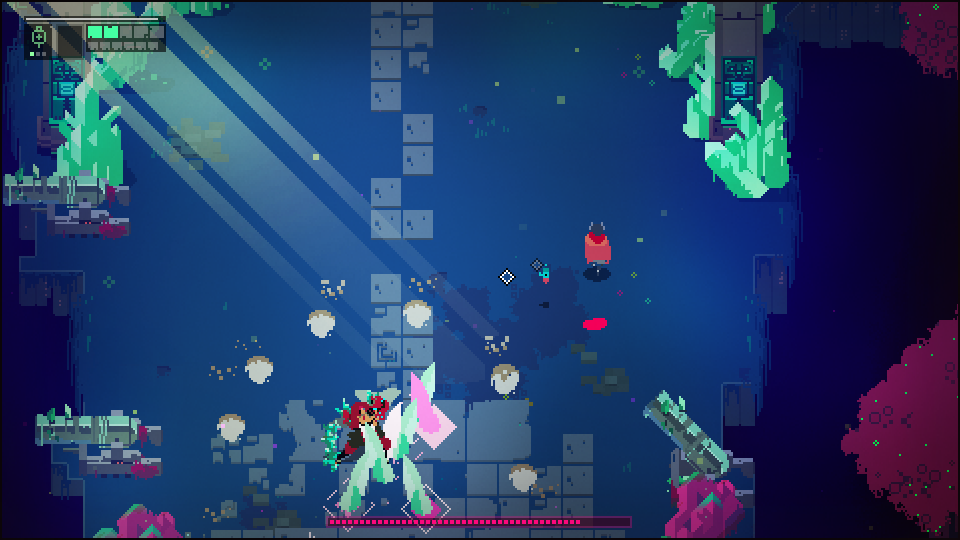hanged_crys: (402, 361, 449, 438), (399, 454, 433, 520), (358, 431, 398, 483), (346, 457, 373, 510)
hanged_man: (317, 390, 398, 457)
player: (584, 220, 612, 279)
